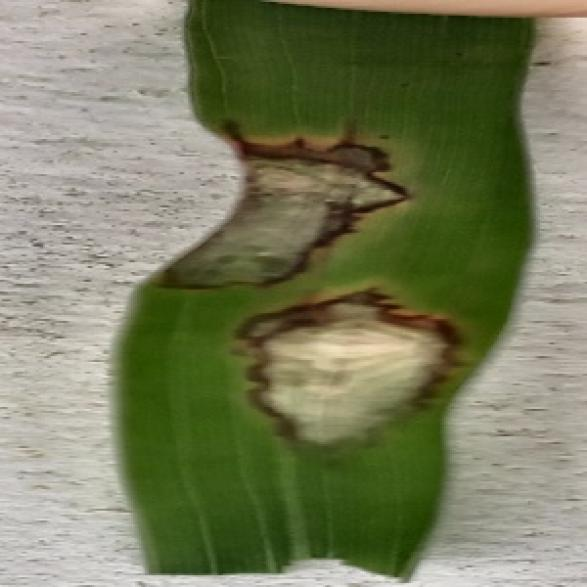Leaf_smut: (150, 115, 476, 464)
